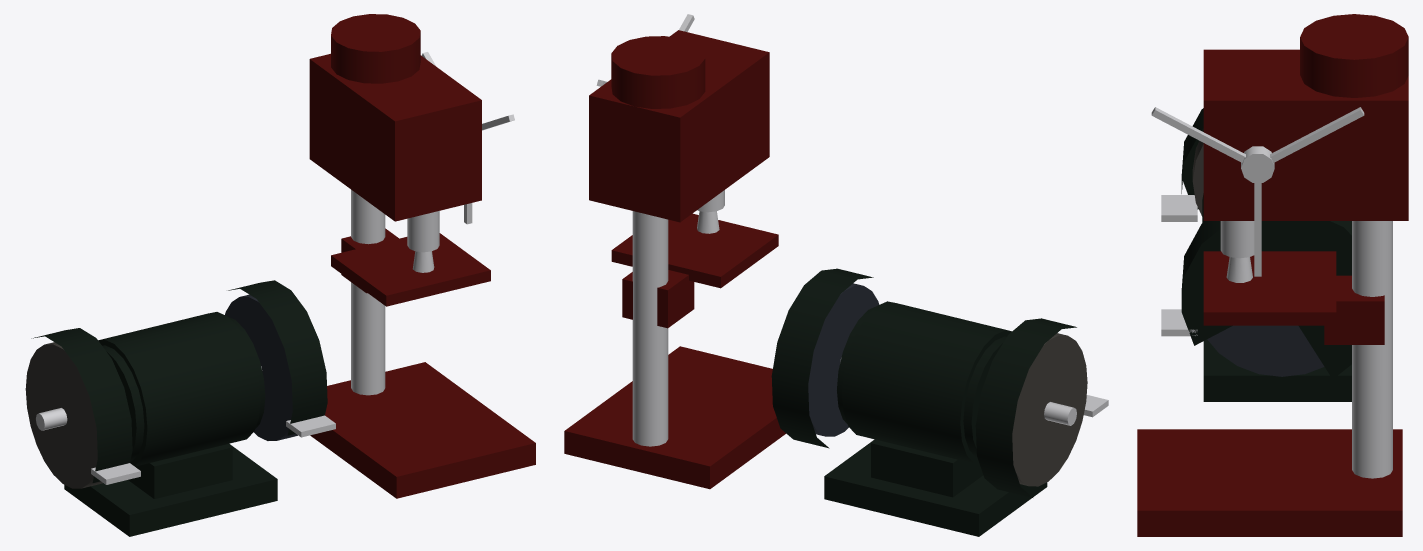
Rendered from grinder-drill.glb.
3 views of the same model, side by side, from view 1: azimuth 30°, elevation 25°; view 2: azimuth 150°, elevation 25°; view 3: azimuth 270°, elevation 25° (orthographic). The views are drawn at different scales.
Parts seen in each view (by area): view 1: grinder; view 2: grinder; view 3: grinder.
Part boxes in pixels (<box>): grinder: <box>25,14,535,536</box>; grinder: <box>564,14,1108,536</box>; grinder: <box>1137,14,1408,536</box>.
Bounding box in the file's own units: 0.5 × 0.42 × 0.225.
